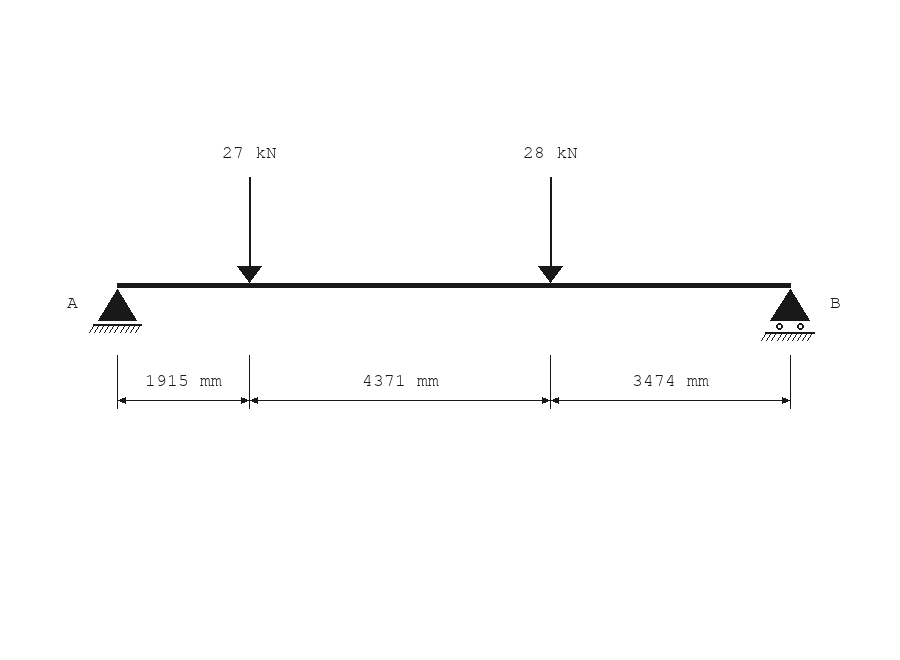pin_support: (89, 289, 142, 333)
point_load: (237, 177, 262, 283), (538, 177, 563, 283)
roller_support: (761, 289, 815, 341)
